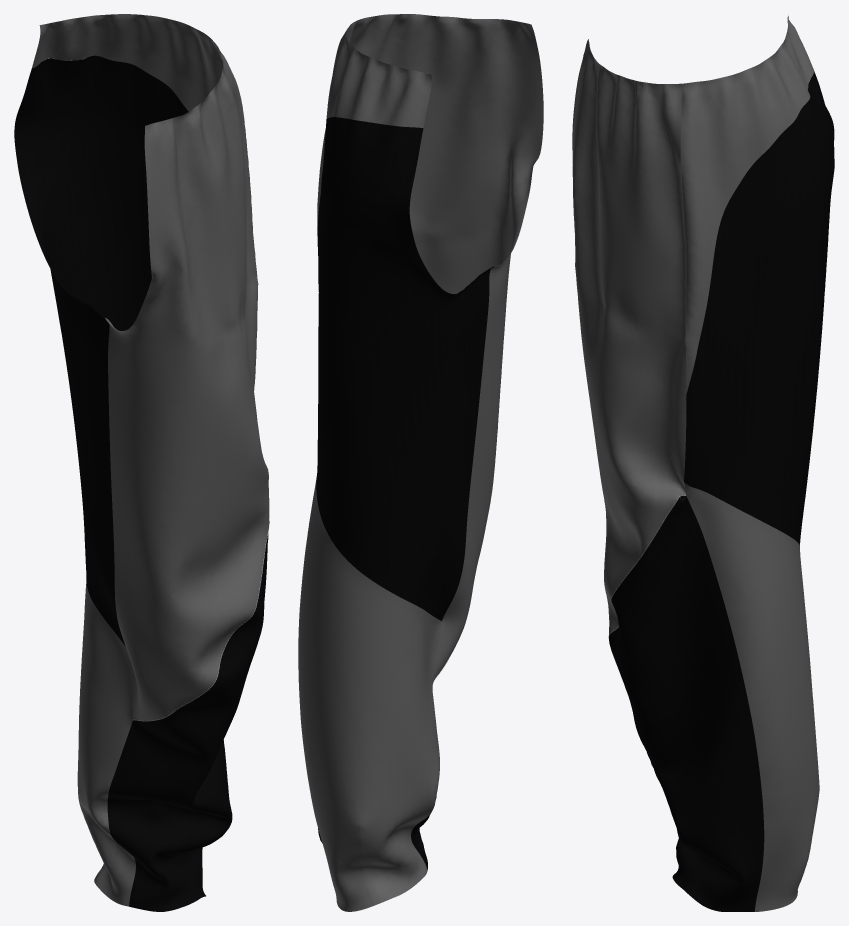
File: xzzuokuq.glb
3 renders of one model, left to right at view 1: azimuth 30°, elevation 25°; view 2: azimuth 150°, elevation 25°; view 3: azimuth 270°, elevation 25°, orthographic. The views are drawn at different scales.
Visible parts, largest first — view 1: xzzuokuhui, xzzuokuhei; view 2: xzzuokuhui, xzzuokuhei; view 3: xzzuokuhui, xzzuokuhei.
Boxes of the visible parts, <box> form: xzzuokuhui: <box>32,14,269,906</box>; xzzuokuhei: <box>14,55,269,911</box>; xzzuokuhui: <box>298,14,543,911</box>; xzzuokuhei: <box>316,117,494,869</box>; xzzuokuhui: <box>572,16,819,911</box>; xzzuokuhei: <box>608,71,834,911</box>.
Size of the model in its own units: 2.08 by 10.34 by 2.9.
3 materials, 3 textured.
